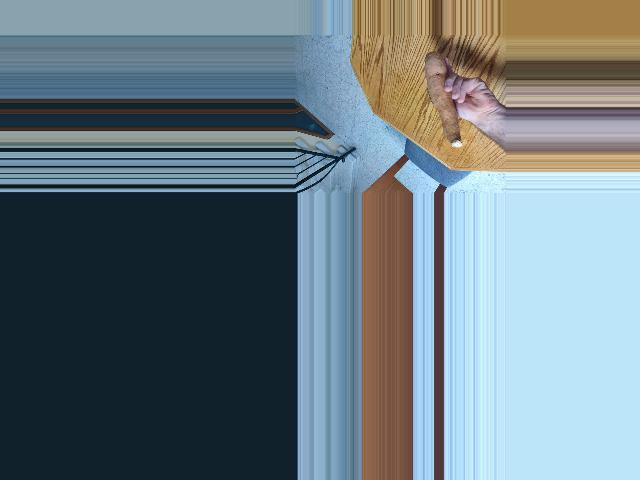sweet_potato: (421, 53, 463, 149)
